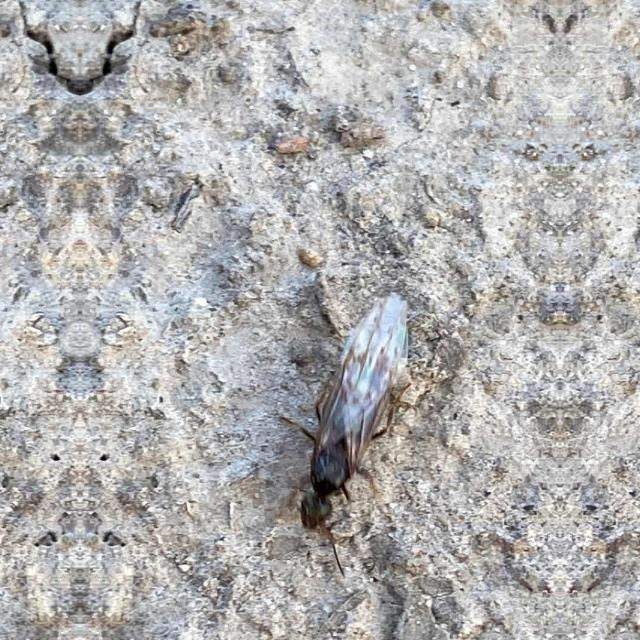Lasius: (227, 288, 456, 566)
